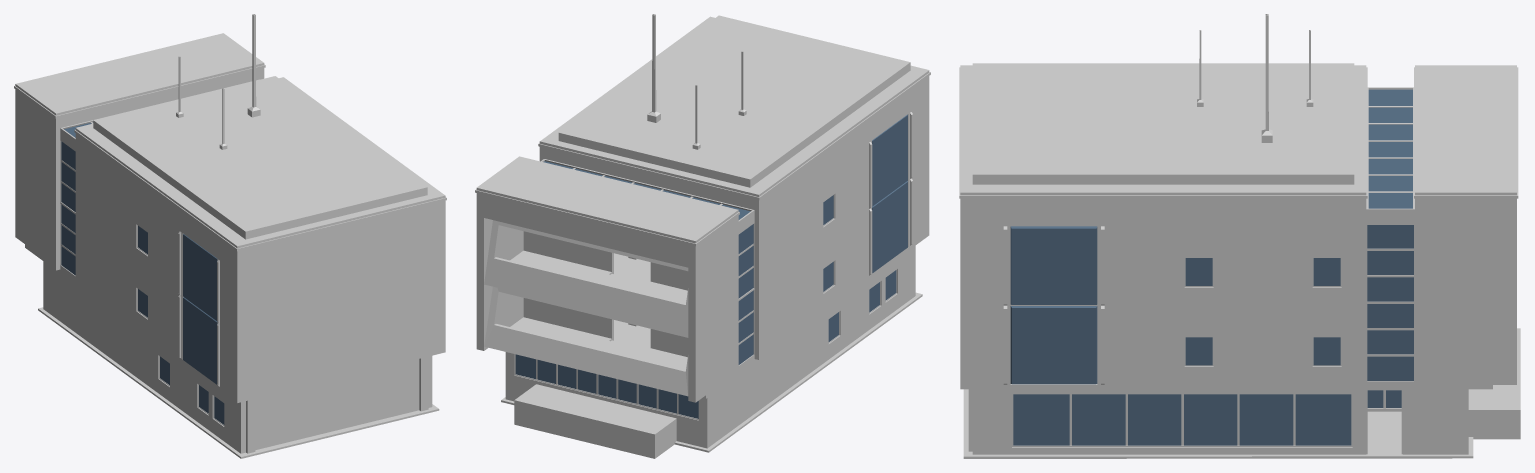
File: res_01.glb
3 renders of one model, left to right at view 1: azimuth 30°, elevation 25°; view 2: azimuth 150°, elevation 25°; view 3: azimuth 270°, elevation 25°, orthographic. The views are drawn at different scales.
Visible parts, largest first — view 1: Residential Buildings 001; view 2: Residential Buildings 001; view 3: Residential Buildings 001.
Part boxes in pixels (<box>): Residential Buildings 001: <box>14,14,446,458</box>; Residential Buildings 001: <box>475,14,930,458</box>; Residential Buildings 001: <box>959,14,1520,458</box>.
Bounding box in the file's own units: 12.6 × 18.39 × 23.1.
